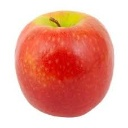apple: (15, 12, 116, 118)
